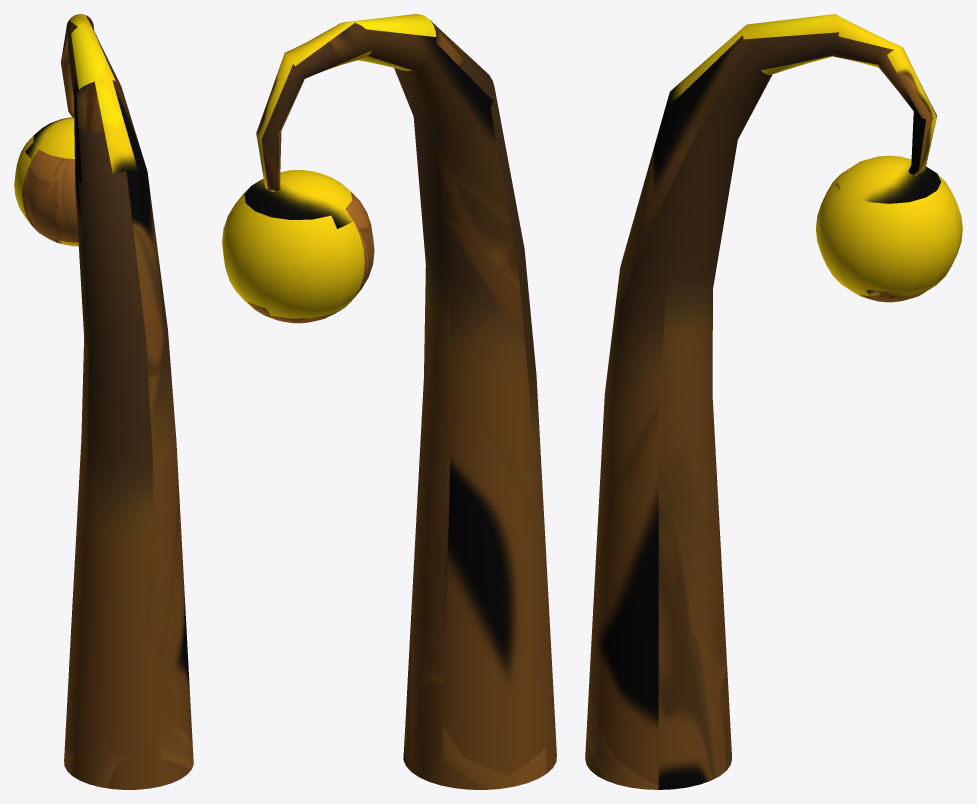
The model's file is lampara2.obj.
3 views of the same model, side by side, from view 1: azimuth 30°, elevation 25°; view 2: azimuth 150°, elevation 25°; view 3: azimuth 270°, elevation 25° (orthographic). The views are drawn at different scales.
Visible parts, largest first — view 1: Cylinder, Sphere; view 2: Cylinder, Sphere; view 3: Cylinder, Sphere.
Part boxes in pixels (<box>): Cylinder: <box>60,14,193,789</box>; Sphere: <box>14,117,78,246</box>; Cylinder: <box>256,14,556,789</box>; Sphere: <box>222,170,374,323</box>; Cylinder: <box>585,14,936,789</box>; Sphere: <box>816,155,962,302</box>.
Bounding box in the file's own units: 2.92 × 11.4 × 5.14.
